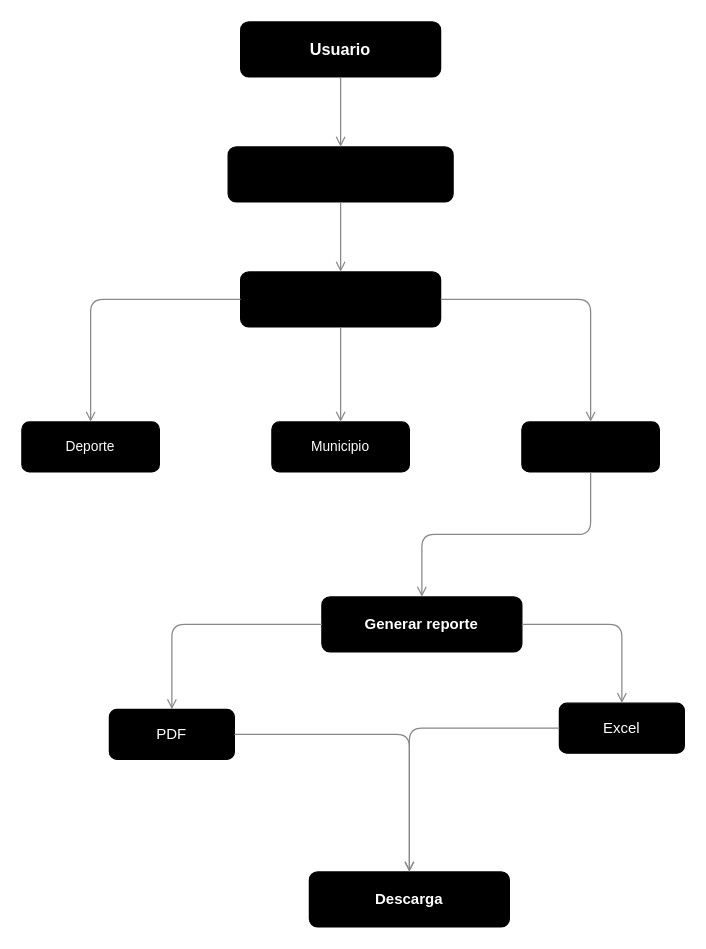
Image size: 706x949. Some labels were removed from this diagram. The shapes that lost their labels are listed below. From the top down, each one's box as (x1, y1, x2, y2) in pixels, then its label:
(227, 146, 453, 202): Módulo Reportes
(239, 271, 441, 327): Aplicar filtros
(521, 421, 659, 472): Categoría
